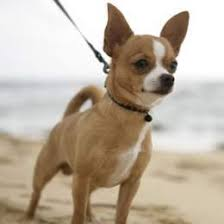chihuahua: (15, 2, 191, 218)
